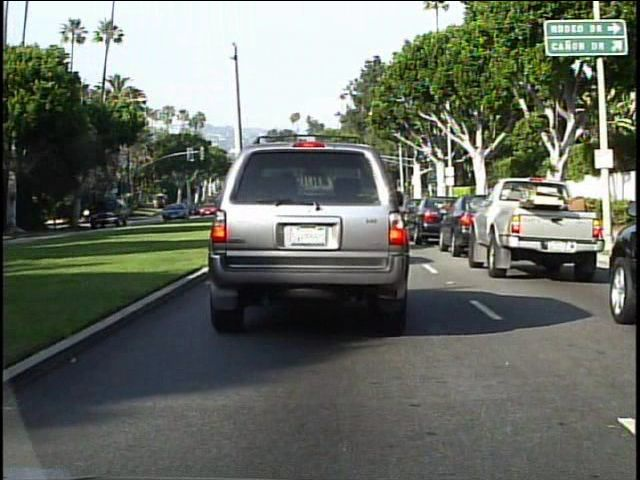person: (82, 206, 93, 227)
